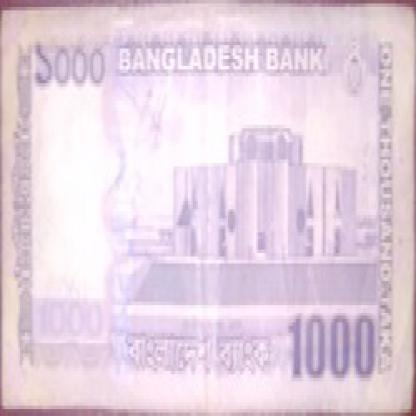One Thousand taka: (284, 312, 378, 385), (30, 35, 106, 100), (33, 295, 108, 343)
